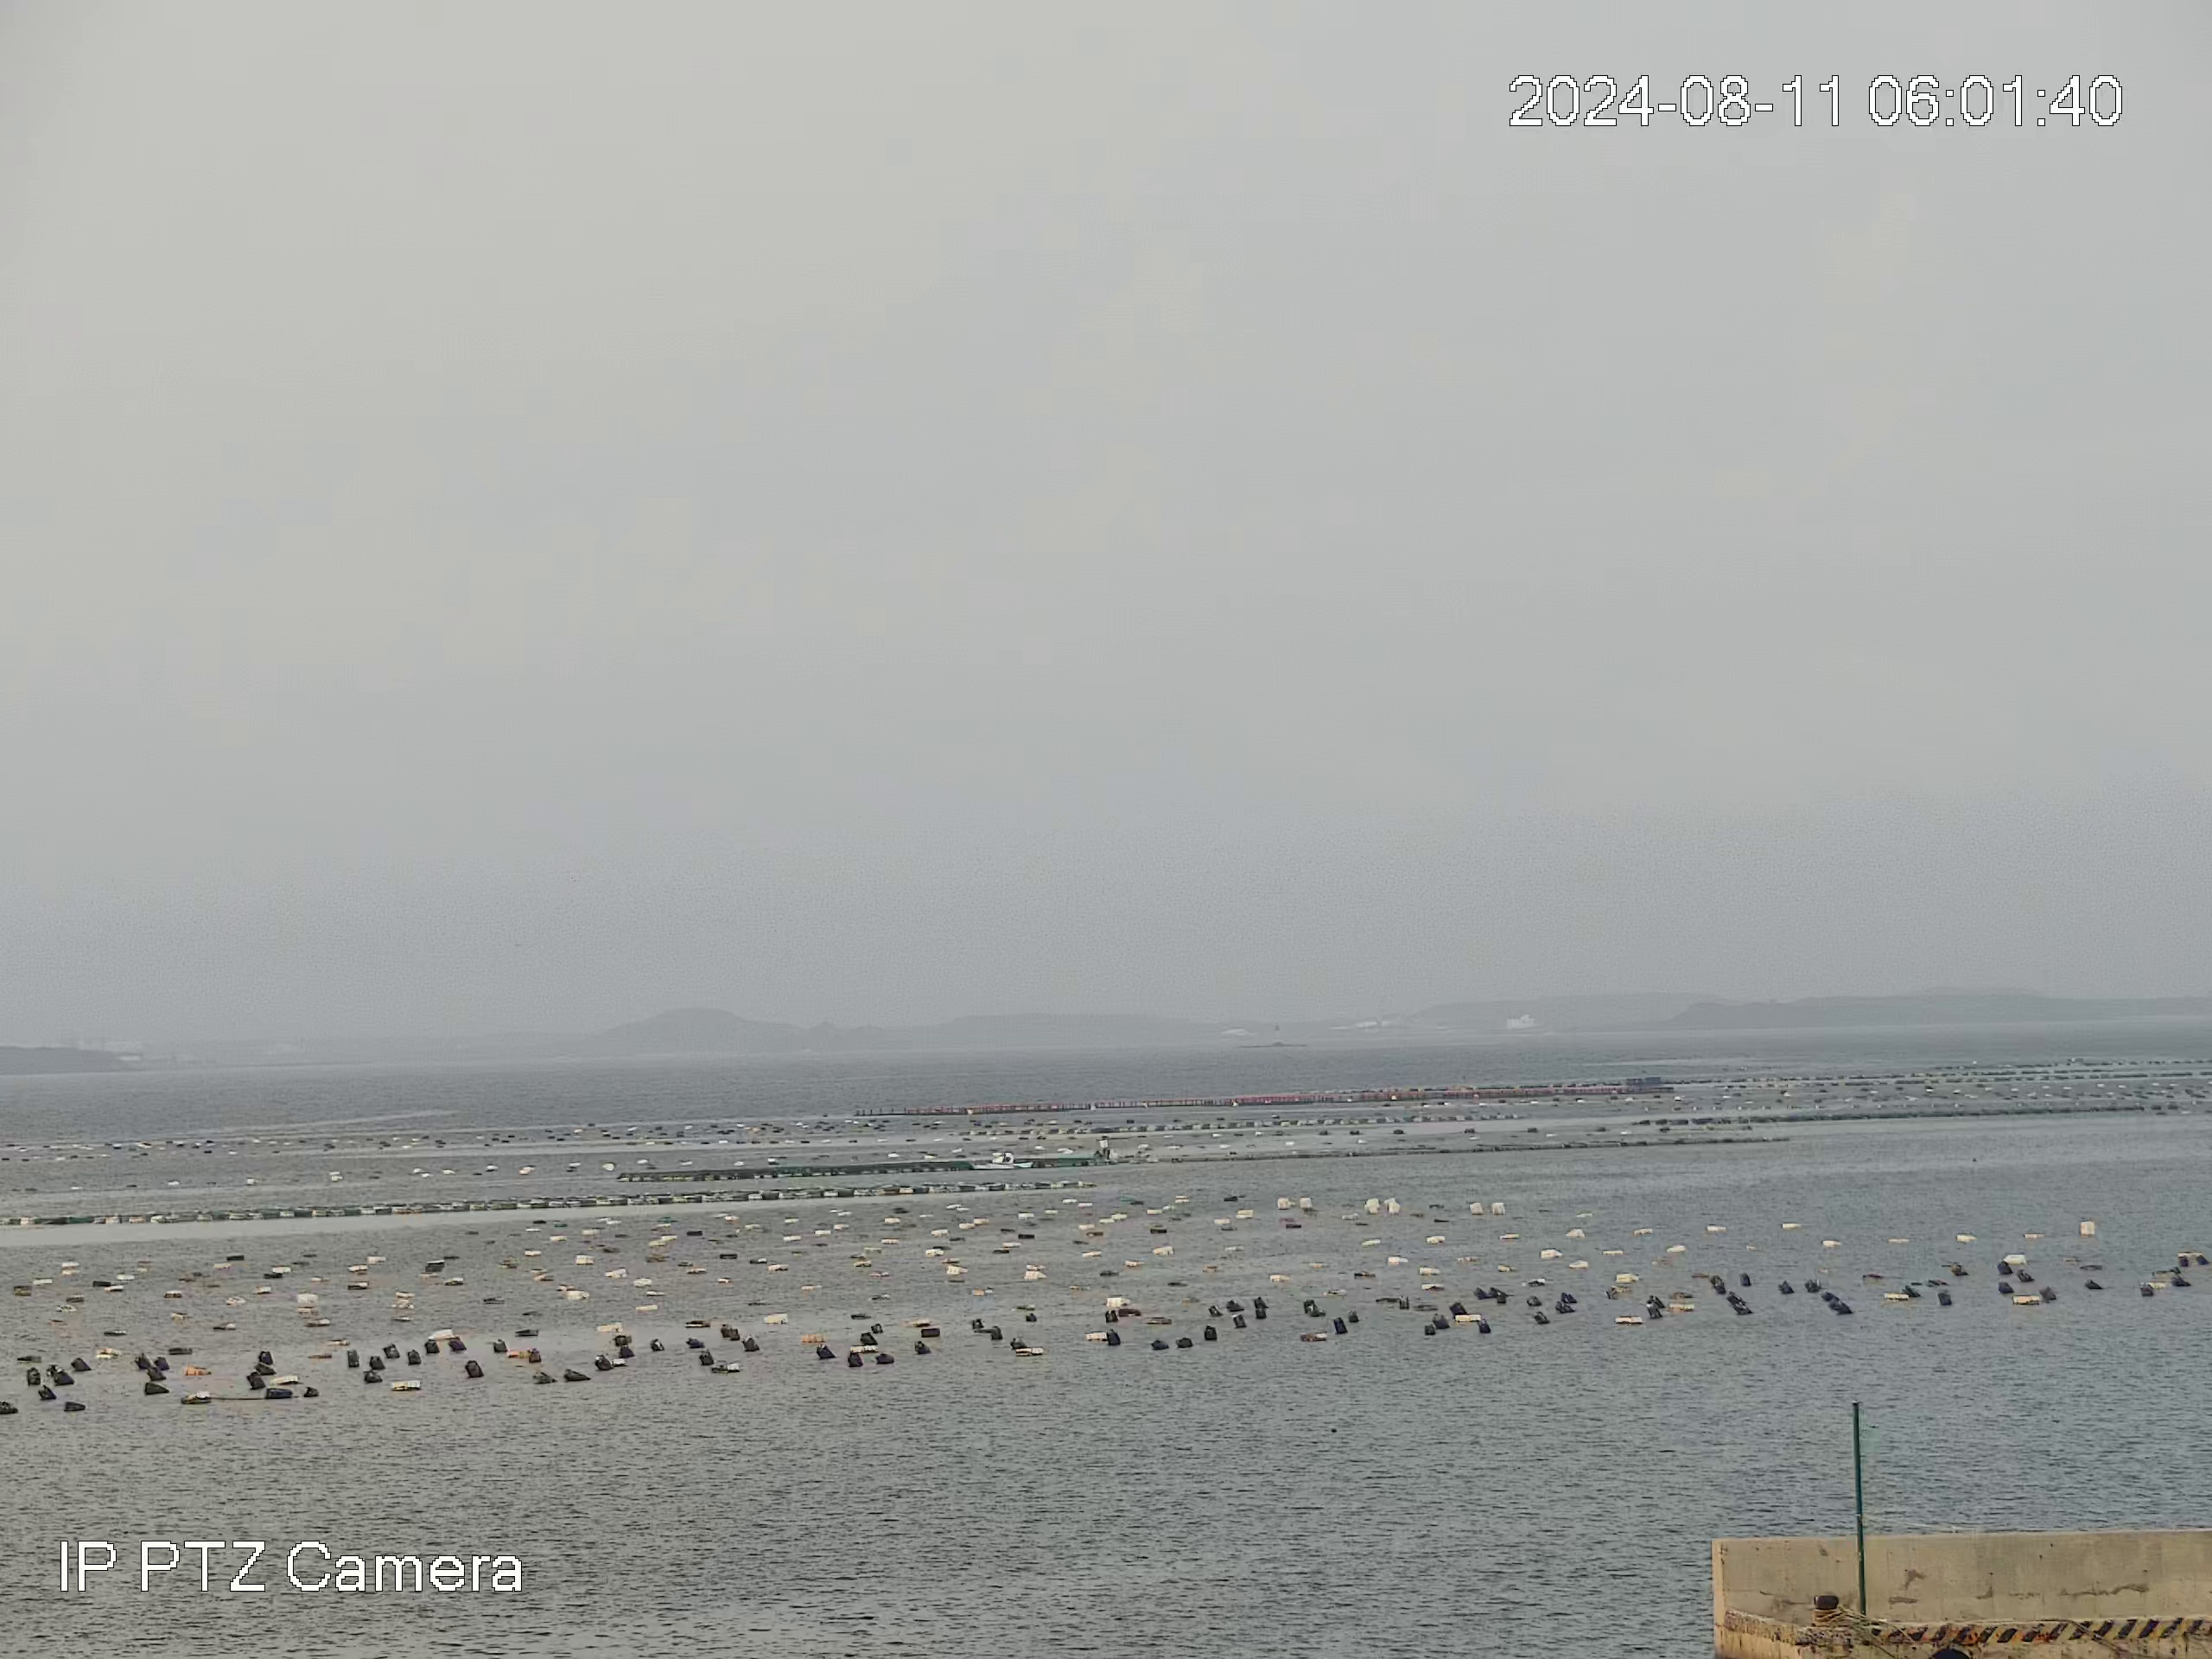boat: (967, 1150, 1035, 1171)
